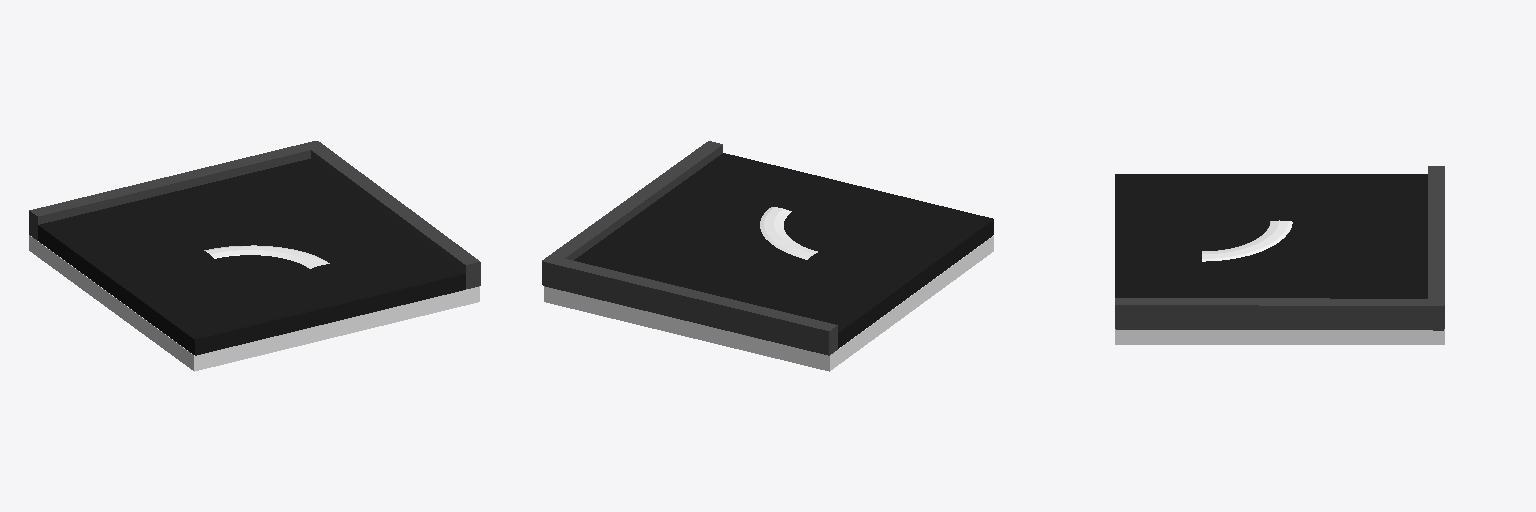
File: road2newfix.obj
The picture shows the model from 3 angles: view 1: azimuth 30°, elevation 25°; view 2: azimuth 150°, elevation 25°; view 3: azimuth 270°, elevation 25°; orthographic projection.
Parts seen in each view (by area): view 1: Cube; view 2: Cube; view 3: Cube.
Boxes of the visible parts, <box> form: Cube: <box>29,141,480,371</box>; Cube: <box>542,141,993,371</box>; Cube: <box>1115,166,1444,344</box>.
Size of the model in its own units: 2.02 by 0.2705 by 2.